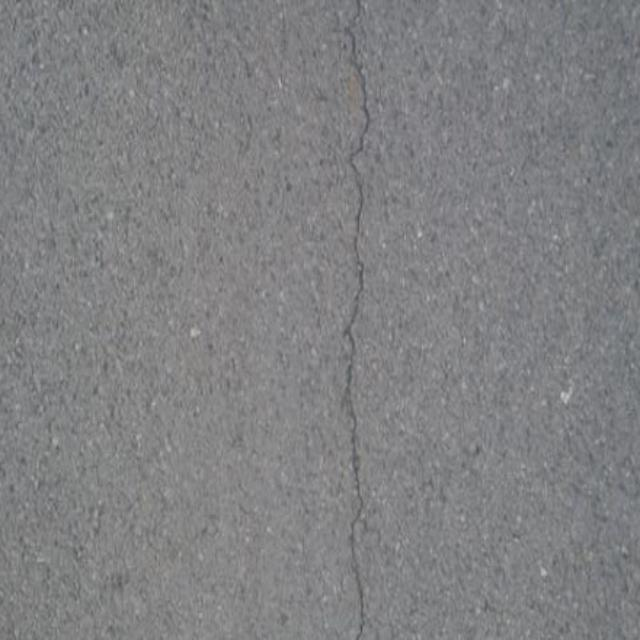Crack: (320, 0, 398, 640)
